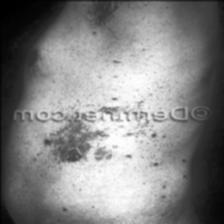Non-Cancerous Skin Condition: (16, 125, 172, 186), (67, 68, 161, 108)
